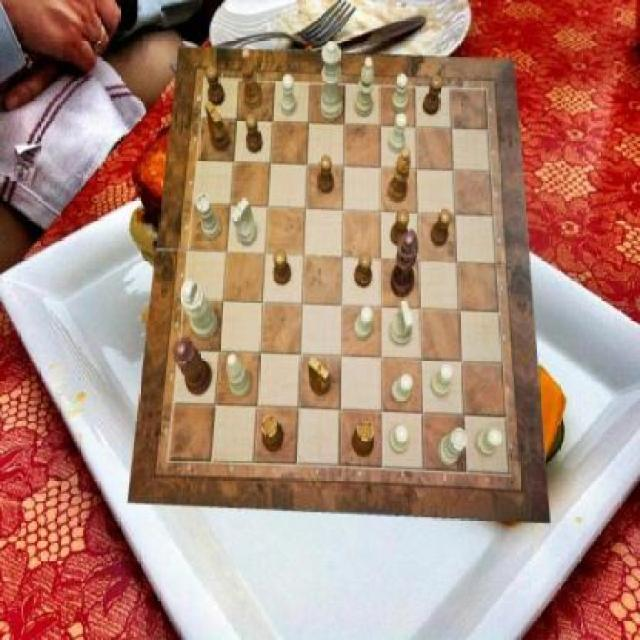bishop: (389, 148, 412, 202), (242, 48, 262, 108)
black-bishop: (391, 230, 418, 298)
black-king: (206, 101, 231, 152), (308, 357, 330, 397)
black-knight: (423, 77, 443, 117), (431, 209, 452, 247), (207, 66, 226, 106), (391, 209, 410, 247), (246, 114, 263, 154), (317, 155, 334, 194), (274, 250, 291, 286), (354, 252, 371, 287)
black-pawn: (174, 337, 214, 395)
black-queen: (261, 415, 284, 453), (352, 420, 375, 458)
black-rook: (354, 58, 374, 118), (226, 354, 251, 398)
white-bishop: (180, 280, 219, 340)
white-king: (232, 199, 257, 246), (391, 300, 414, 346)
white-knight: (431, 363, 454, 398), (388, 114, 407, 154), (476, 429, 502, 457), (354, 306, 374, 340), (280, 74, 296, 115), (392, 74, 408, 114), (389, 424, 409, 454), (391, 374, 413, 401)
white-pawn: (318, 40, 342, 120)
white-queen: (438, 428, 468, 465), (197, 194, 221, 240)
